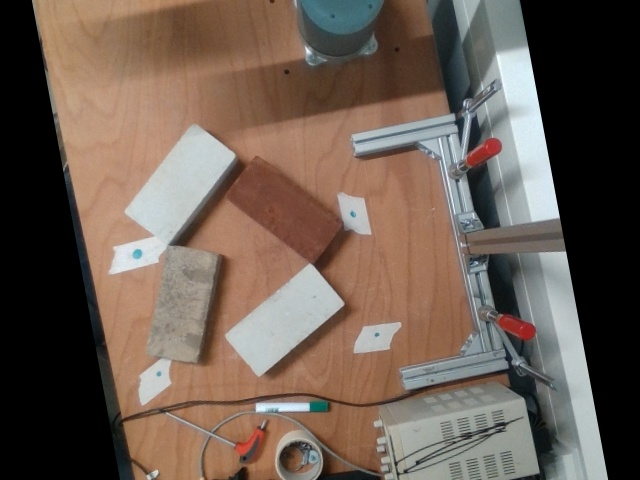brick: (124, 122, 236, 244), (224, 263, 343, 377), (227, 159, 341, 262), (144, 245, 217, 364)
